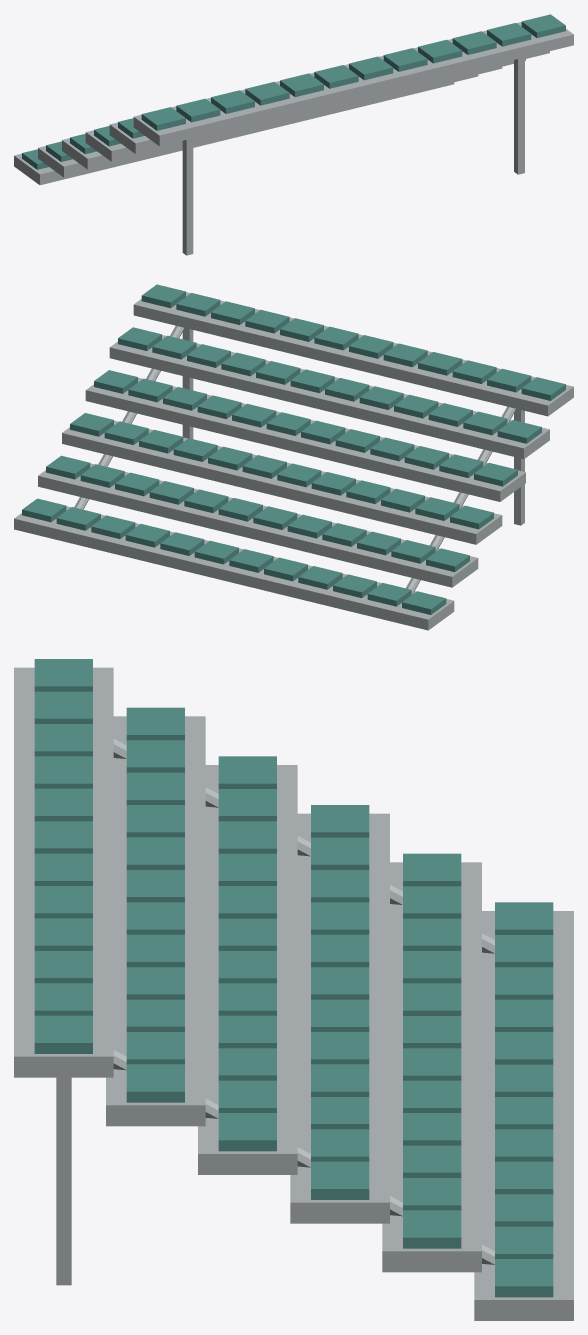
Rendered from grandstand.glb.
The picture shows the model from 3 angles, top to bottom: view 1: azimuth 30°, elevation 25°; view 2: azimuth 150°, elevation 25°; view 3: azimuth 270°, elevation 25°; orthographic projection. The views are drawn at different scales.
Parts seen in each view (by area): view 1: grandstand-straight; view 2: grandstand-straight; view 3: grandstand-straight.
Boxes of the visible parts, left/top/right/bottom form: grandstand-straight: left=14, top=14, right=573, bottom=255; grandstand-straight: left=14, top=284, right=573, bottom=630; grandstand-straight: left=14, top=659, right=573, bottom=1320.
Bounding box in the file's own units: 6 × 1.99 × 3.65.
